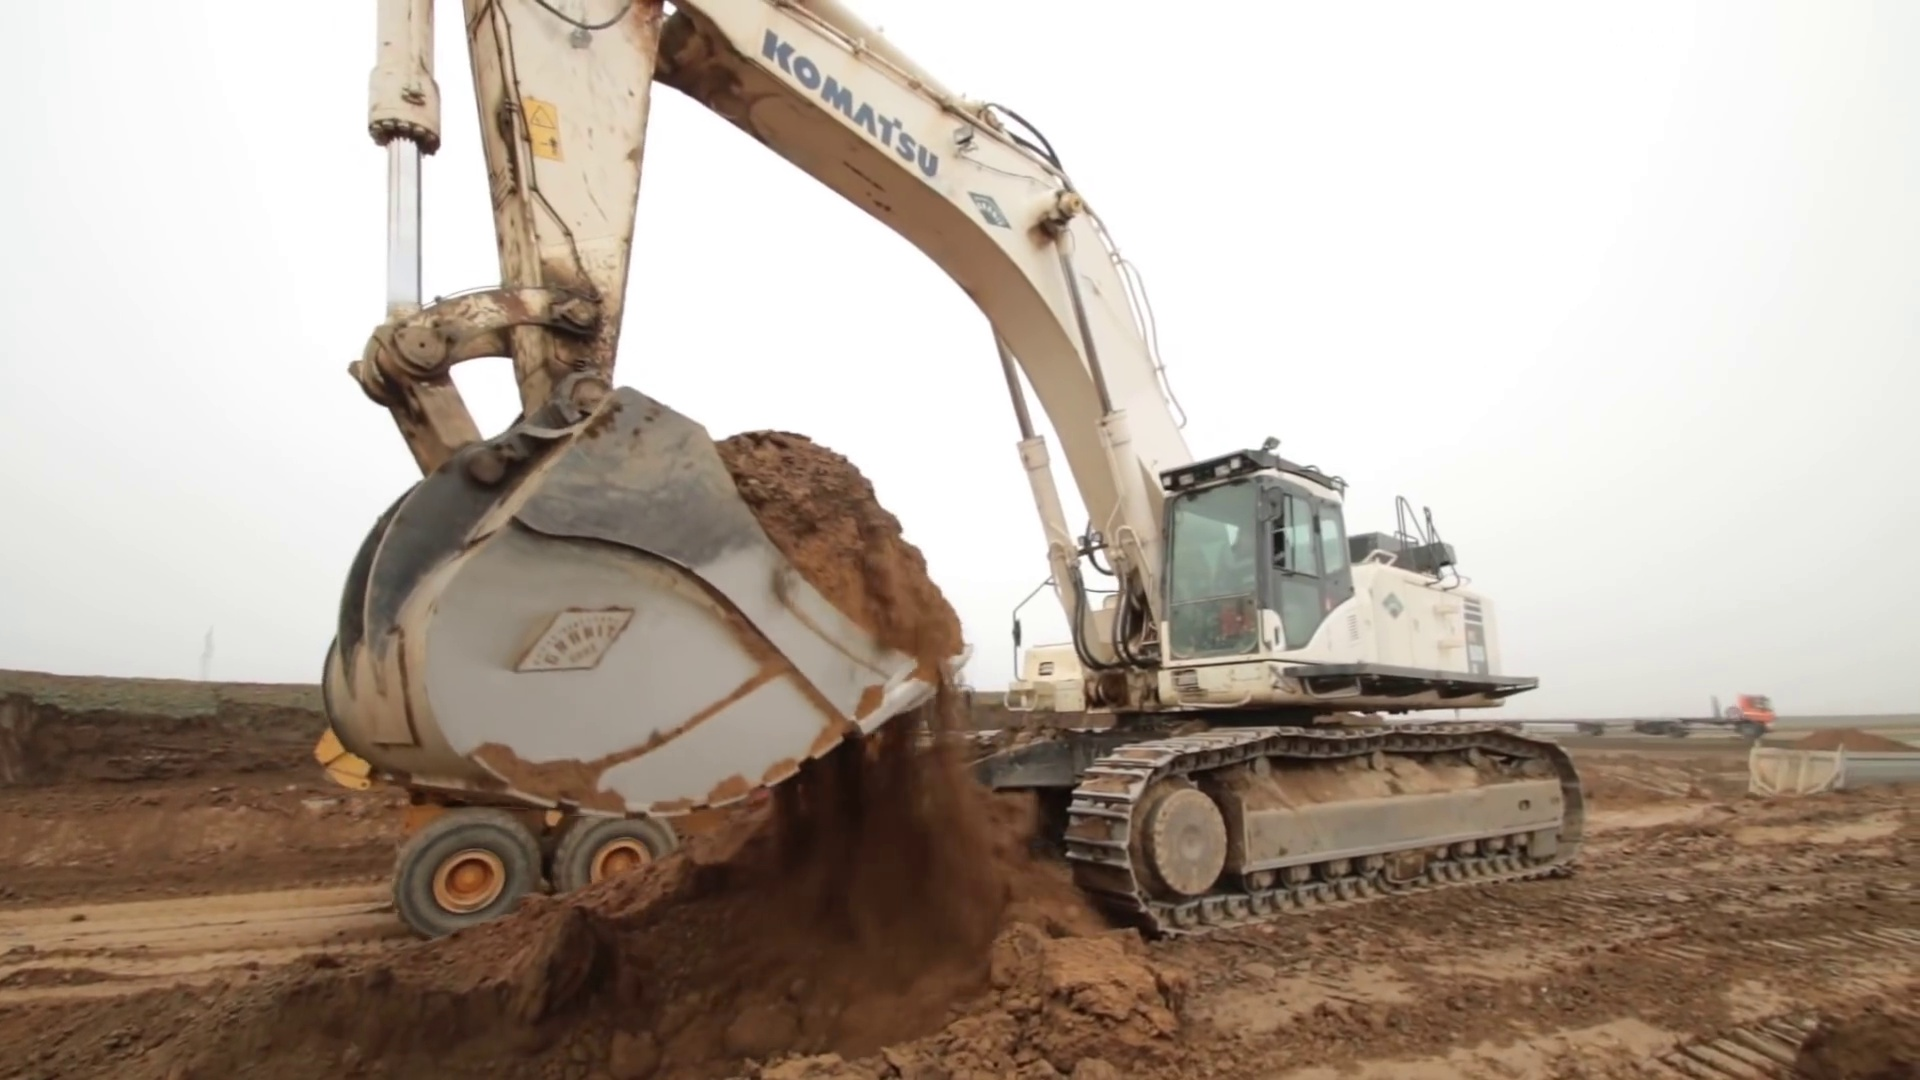dumper: (305, 649, 727, 936)
excavator: (320, 1, 1592, 938)
truck: (1747, 736, 1913, 800)
